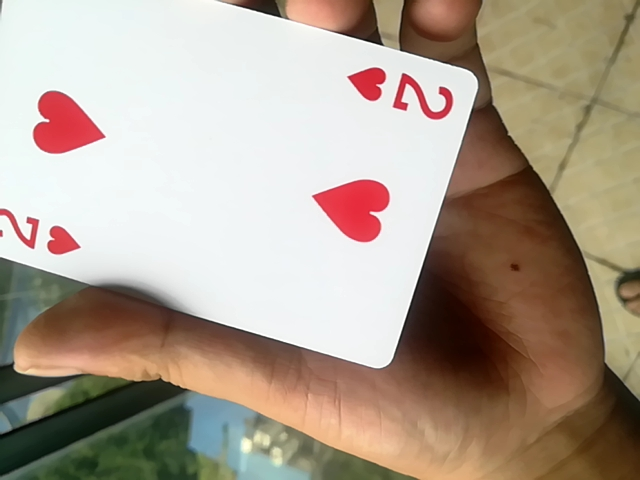hx 2: (2, 5, 476, 376)
